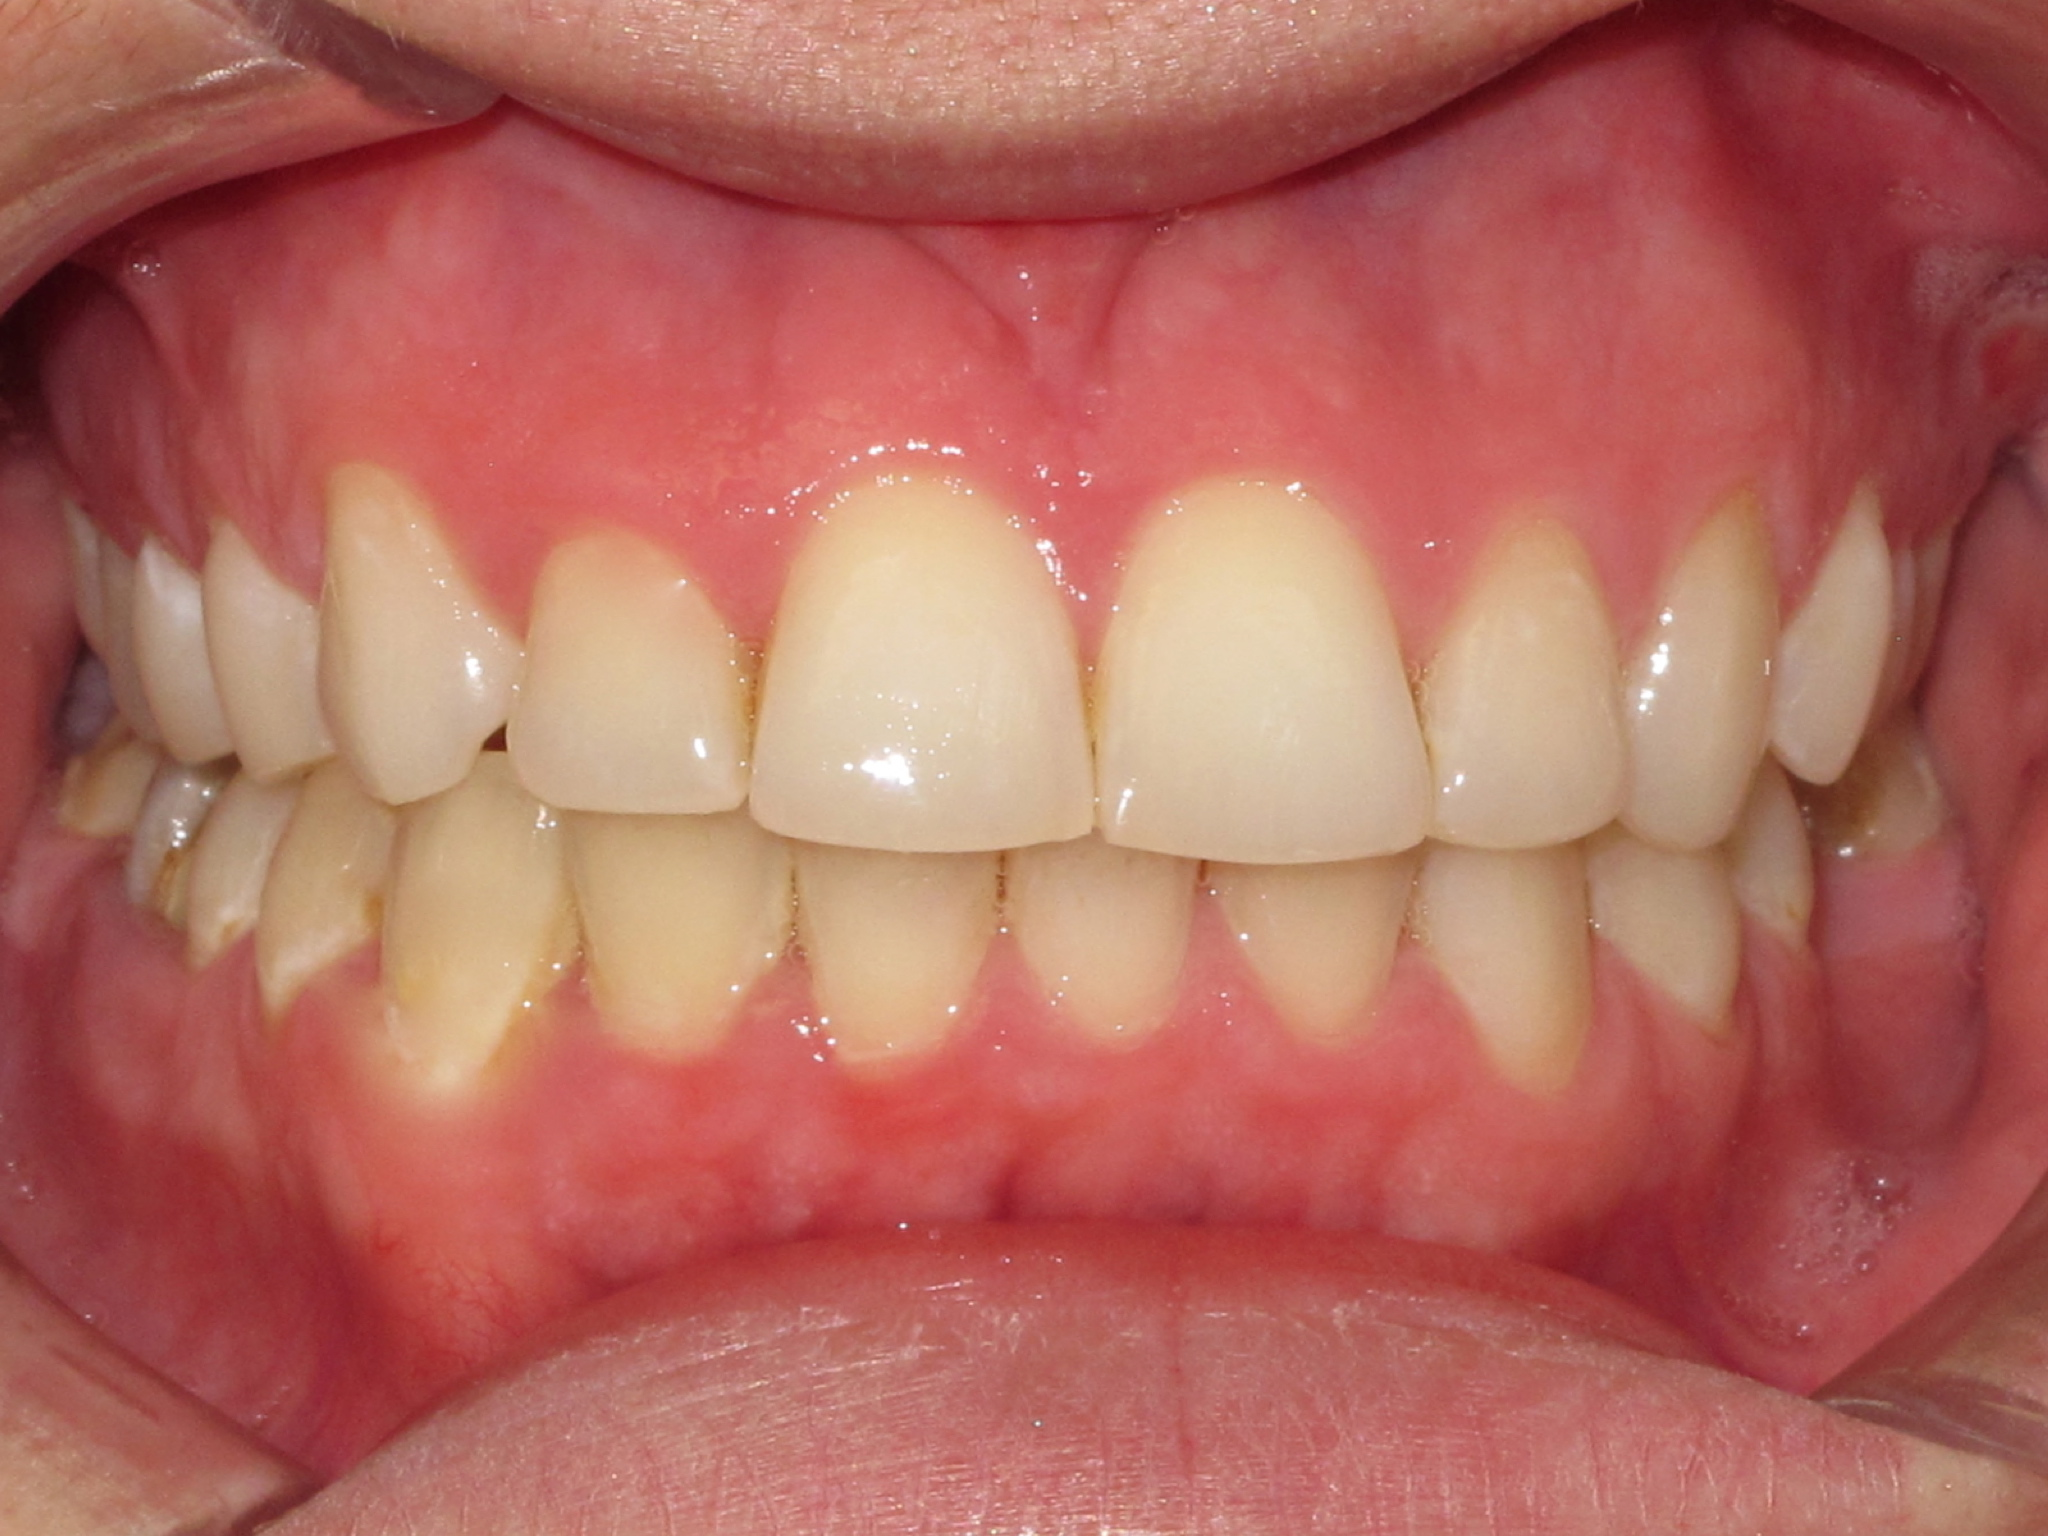LL1BC_healthy: (1614, 841, 1751, 1029)
LL2BC_healthy: (1745, 820, 1827, 958)
LLCI_healthy: (998, 845, 1216, 1083)
LLC_healthy: (1426, 841, 1616, 1105)
LLLI_healthy: (1221, 849, 1422, 1070)
LR1BC_healthy: (244, 783, 384, 1013)
LRCI_healthy: (797, 850, 1001, 1057)
LRC_healthy: (369, 783, 576, 1091)
LRLI_healthy: (552, 812, 792, 1062)
UL1BC_healthy: (1780, 497, 1896, 791)
ULCI_healthy: (1093, 479, 1438, 871)
ULC_healthy: (1638, 503, 1780, 852)
ULLI_healthy: (1426, 511, 1634, 857)
UR1BC_healthy: (189, 523, 352, 786)
UR2BC_healthy: (116, 541, 227, 783)
URCI_healthy: (751, 470, 1097, 857)
URC_healthy: (311, 470, 529, 808)
URLI_healthy: (514, 545, 756, 823)
